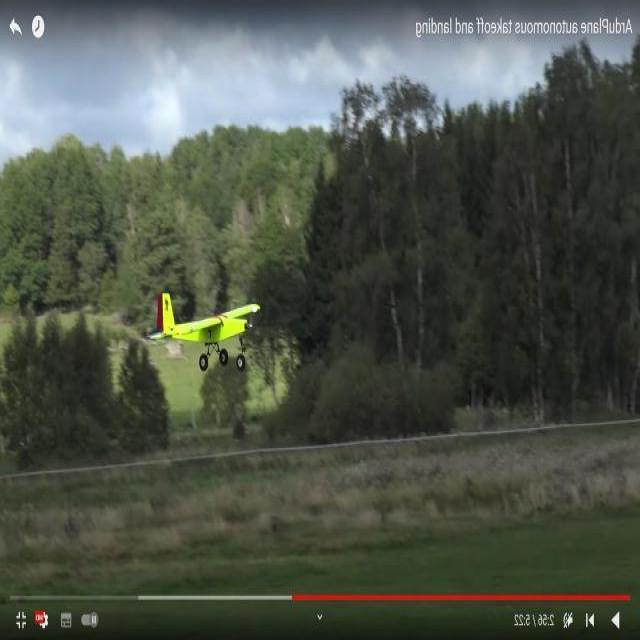UAV: (128, 292, 261, 392)
